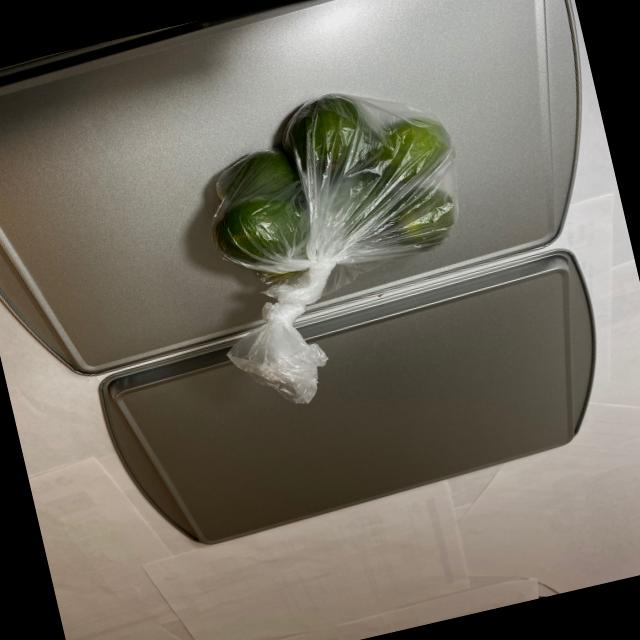lemon: (181, 72, 474, 305)
